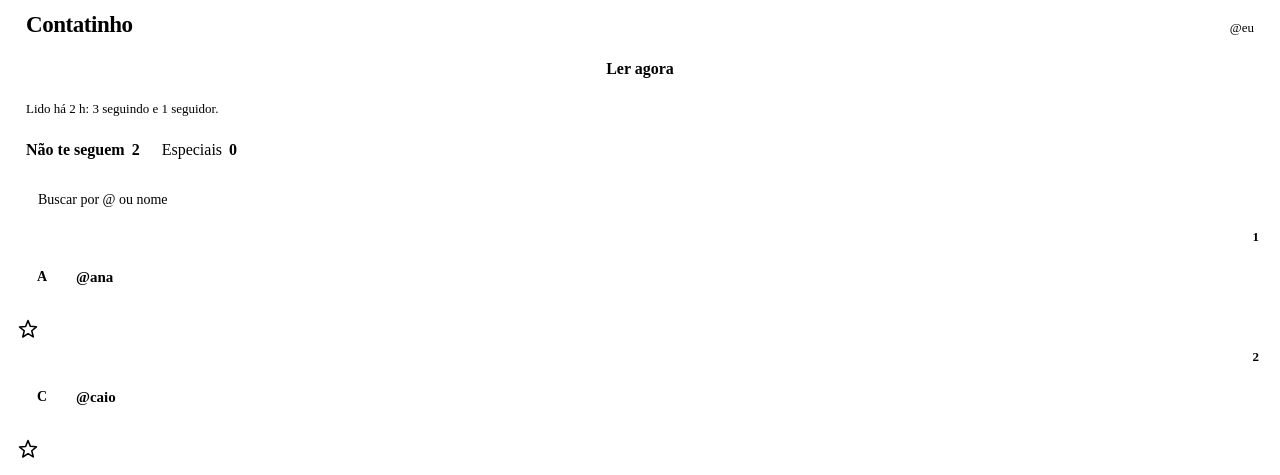
App › clicar na linha abre o perfil na aba do Instagram e marca como vista
Click the button with aria-label "Abrir perfil de @ana": (95, 277) [8,245,1266,309]
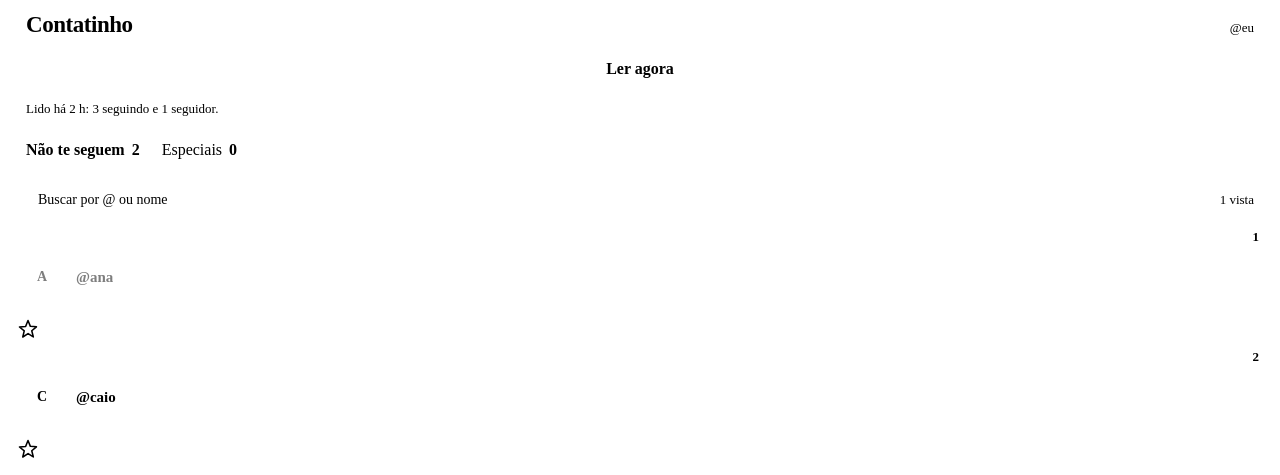
Expected: the text "1 vista" is shown, [1220,192,1254,208]
